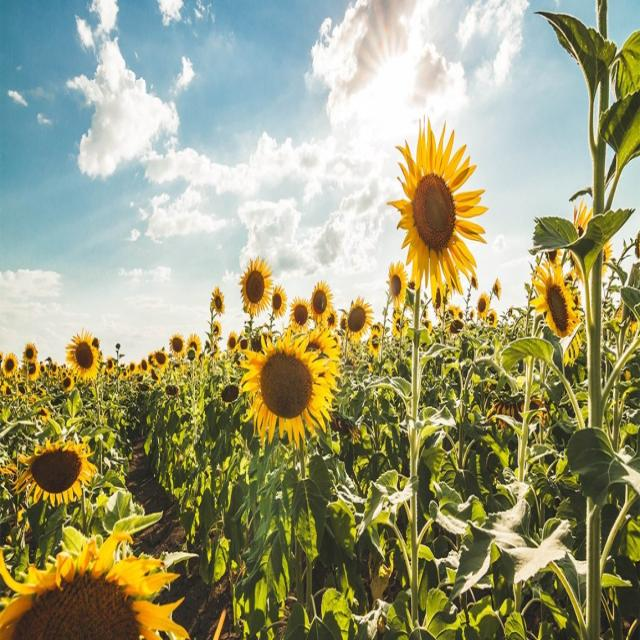sunflower: (386, 104, 486, 314), (0, 547, 200, 636), (240, 329, 346, 450), (17, 436, 107, 512), (531, 251, 585, 363), (234, 238, 273, 320), (60, 321, 104, 379), (384, 258, 411, 313), (308, 273, 335, 324), (344, 296, 374, 340), (165, 328, 191, 364), (18, 338, 42, 368), (207, 280, 224, 316), (270, 283, 286, 317), (3, 352, 18, 383)
